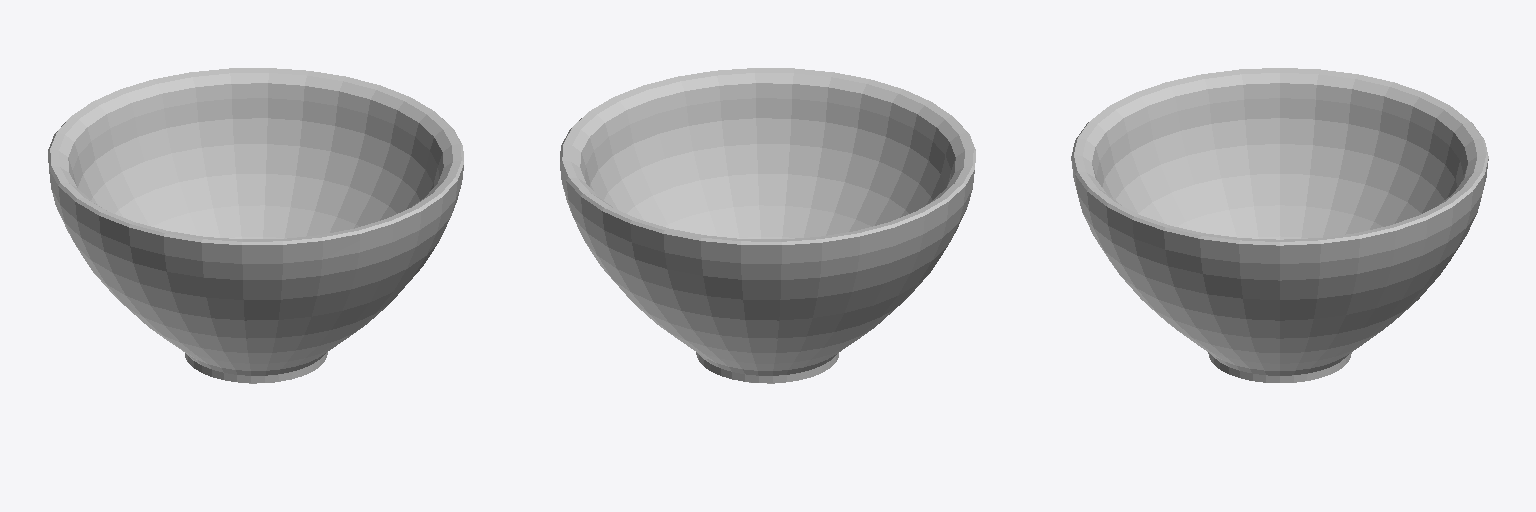
File: Cup3.obj
3 renders of one model, left to right at view 1: azimuth 30°, elevation 25°; view 2: azimuth 150°, elevation 25°; view 3: azimuth 270°, elevation 25°, orthographic.
Parts seen in each view (by area): view 1: Cup3_Cylinder.004; view 2: Cup3_Cylinder.004; view 3: Cup3_Cylinder.004.
Part boxes in pixels (x1,y1,x2,y2): Cup3_Cylinder.004: (48,68,463,383); Cup3_Cylinder.004: (560,68,975,383); Cup3_Cylinder.004: (1071,68,1488,382).
Bounding box in the file's own units: 0.4973 × 0.2655 × 0.4973.